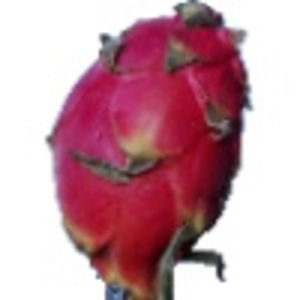pitaia: (48, 1, 256, 300)
